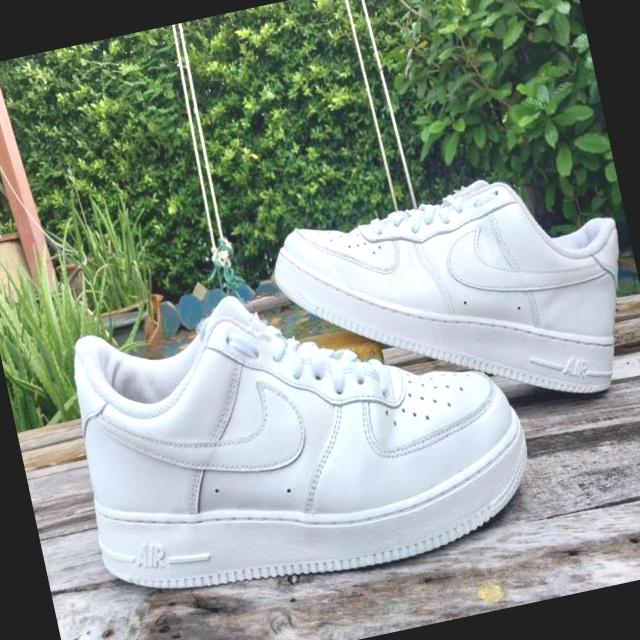nike_original_airforce: (52, 246, 548, 626), (260, 151, 640, 460)
